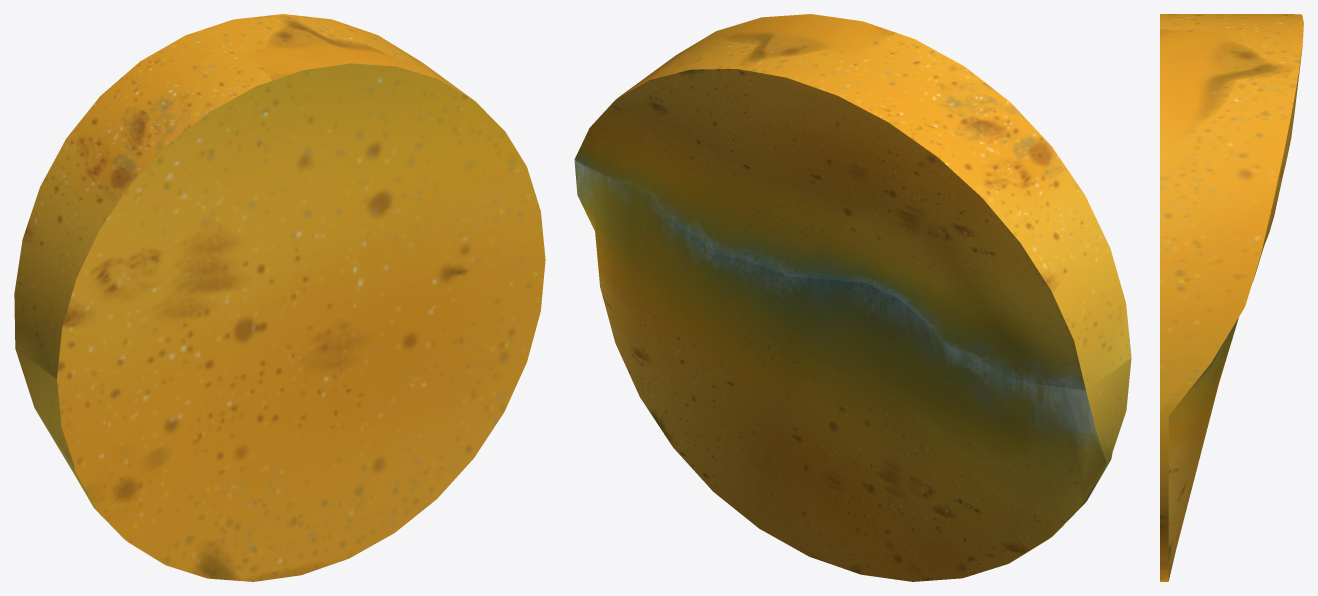
File: Sand.fbx
3 renders of one model, left to right at view 1: azimuth 30°, elevation 25°; view 2: azimuth 150°, elevation 25°; view 3: azimuth 270°, elevation 25°, orthographic. The views are drawn at different scales.
Parts seen in each view (by area): view 1: Sand; view 2: Sand; view 3: Sand.
Boxes of the visible parts, x1,y1,x2,y2 form: Sand: [14, 14, 545, 581]; Sand: [574, 14, 1131, 581]; Sand: [1160, 14, 1303, 581].
Size of the model in its own units: 69.19 by 68.28 by 17.3.
1 material, 1 textured.
